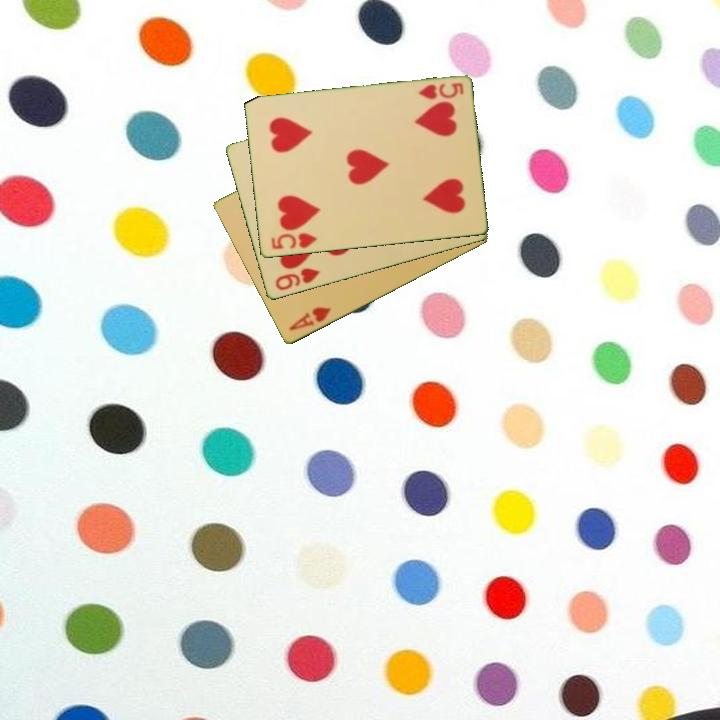5h: (267, 229, 320, 253), (414, 79, 466, 103)
9h: (272, 265, 323, 294)
Ah: (285, 303, 334, 334)
